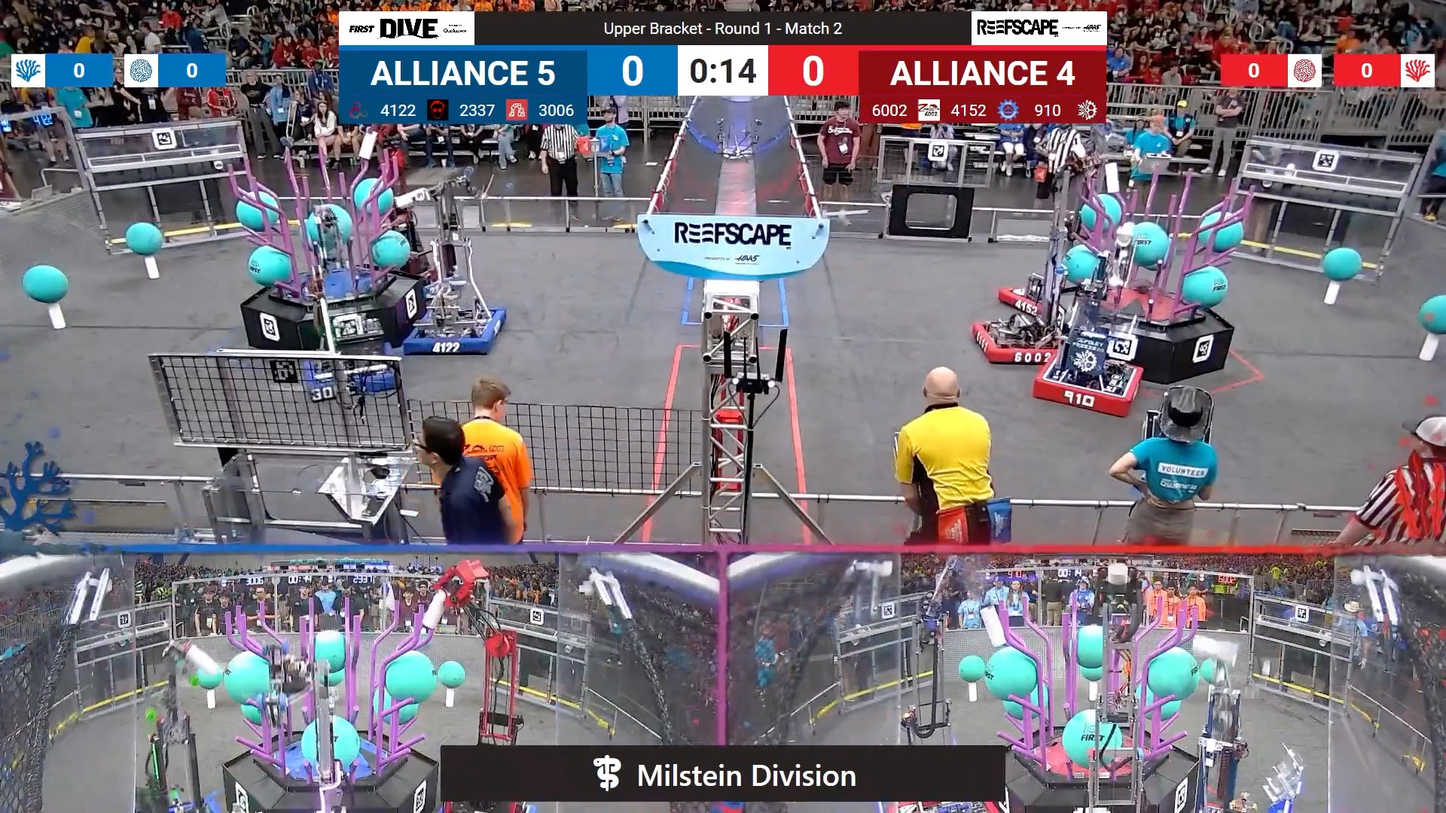bumpers: (1026, 353, 1149, 421), (396, 300, 511, 360), (966, 309, 1077, 370), (300, 348, 406, 396), (998, 279, 1077, 311)
